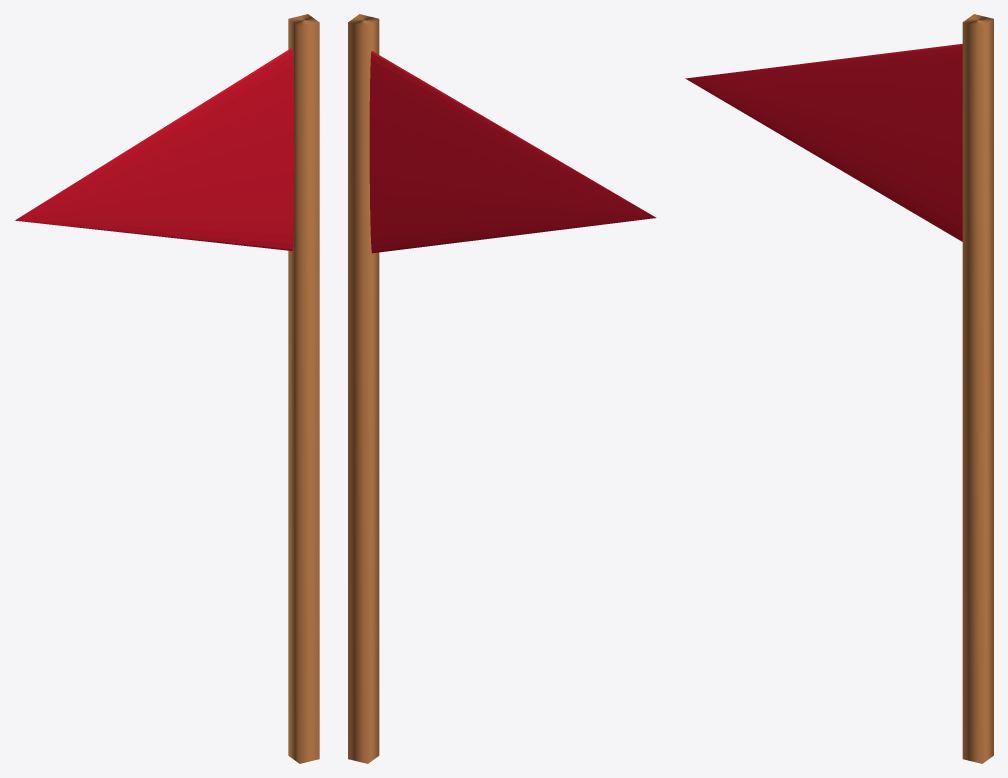
The model's file is Red flag.fbx.
3 views of the same model, side by side, from view 1: azimuth 30°, elevation 25°; view 2: azimuth 150°, elevation 25°; view 3: azimuth 330°, elevation 25° (orthographic).
Parts seen in each view (by area): view 1: Cone, Cube; view 2: Cone, Cube; view 3: Cone, Cube.
Boxes of the visible parts, x1=… form: Cone: x1=15, y1=48, x2=294, y2=250; Cube: x1=288, y1=14, x2=319, y2=763; Cone: x1=369, y1=51, x2=656, y2=253; Cube: x1=348, y1=14, x2=379, y2=763; Cone: x1=685, y1=44, x2=962, y2=241; Cube: x1=962, y1=14, x2=993, y2=763.
Size of the model in its own units: 305 by 712 by 20.
